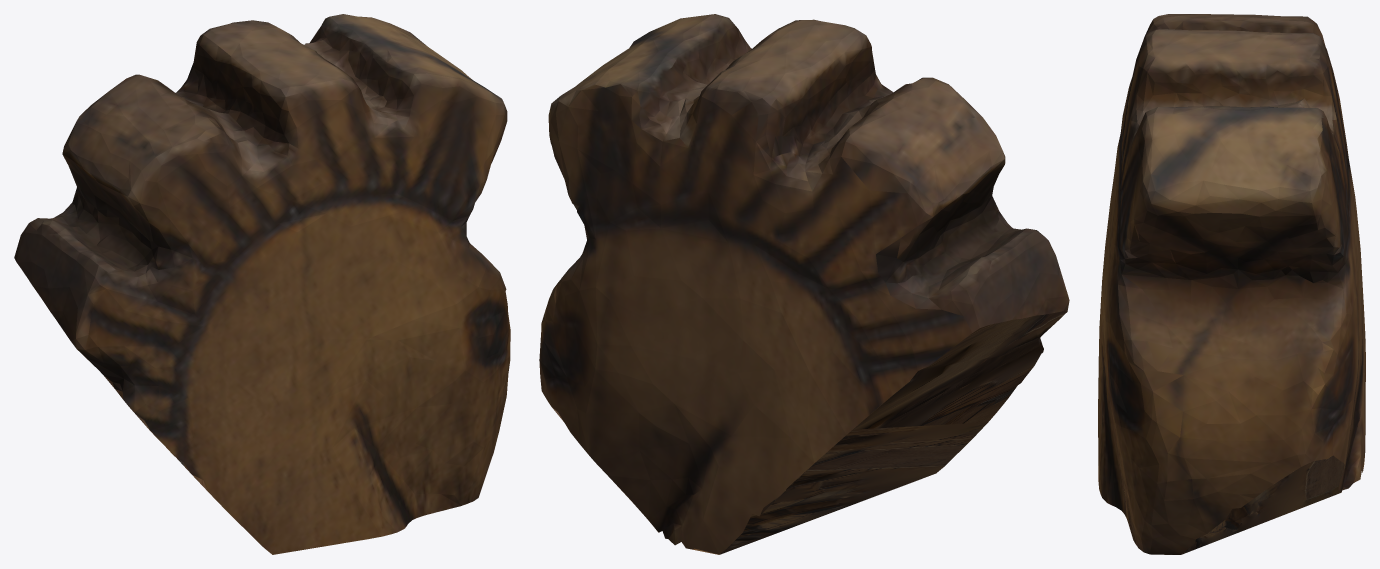
The model's file is Head.fbx.
The picture shows the model from 3 angles, left to right: view 1: azimuth 30°, elevation 25°; view 2: azimuth 150°, elevation 25°; view 3: azimuth 270°, elevation 25°; orthographic projection. The views are drawn at different scales.
Parts seen in each view (by area): view 1: KLA-Or-10000_cell.007; view 2: KLA-Or-10000_cell.007; view 3: KLA-Or-10000_cell.007.
Boxes of the visible parts, <box> form: KLA-Or-10000_cell.007: <box>14,14,510,554</box>; KLA-Or-10000_cell.007: <box>539,14,1069,554</box>; KLA-Or-10000_cell.007: <box>1098,14,1365,554</box>.
Bounding box in the file's own units: 35.31 × 34.97 × 19.44.
